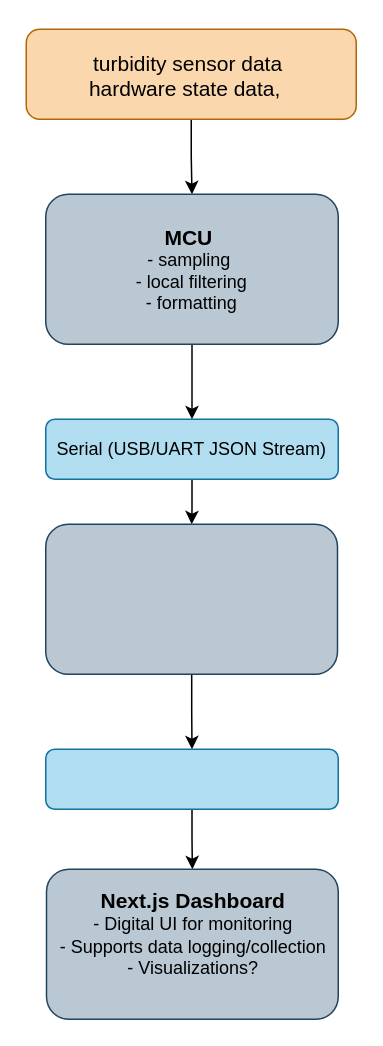
This 383x1046 diagram has some shape labels left out. Each missing label, with the centre of its shape:
"Node.js Bridge - Serial listener - parser - WebSocket Server" goes at pixel 191 598.
"Websocket via socket.io broadcast to client (dashboard)" goes at pixel 191 778.
